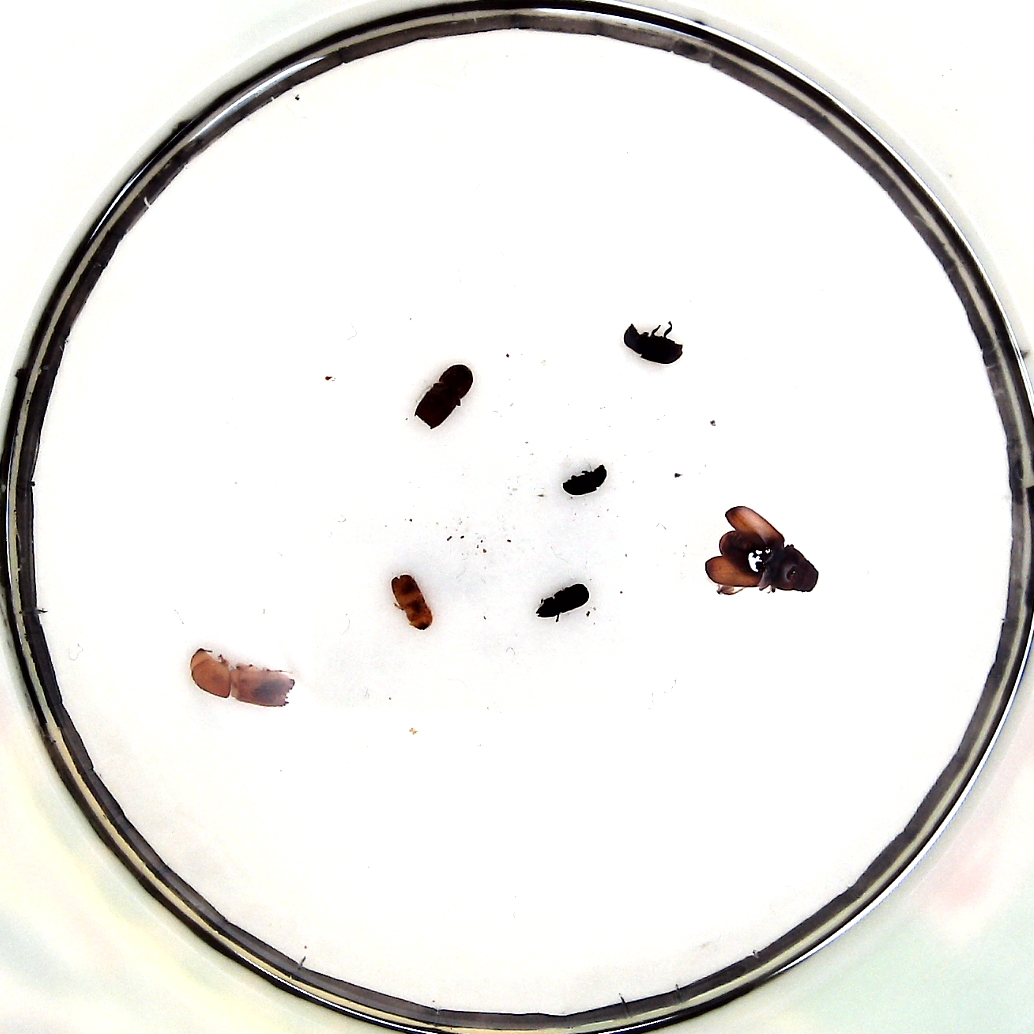Boerner: (189, 648, 295, 709)
Leconte: (701, 508, 820, 596)
Linnaeus: (414, 361, 473, 431)
acuminatus: (393, 573, 432, 628)
armandi: (623, 318, 686, 363)
coleoptera: (535, 582, 592, 621), (565, 466, 611, 496)
